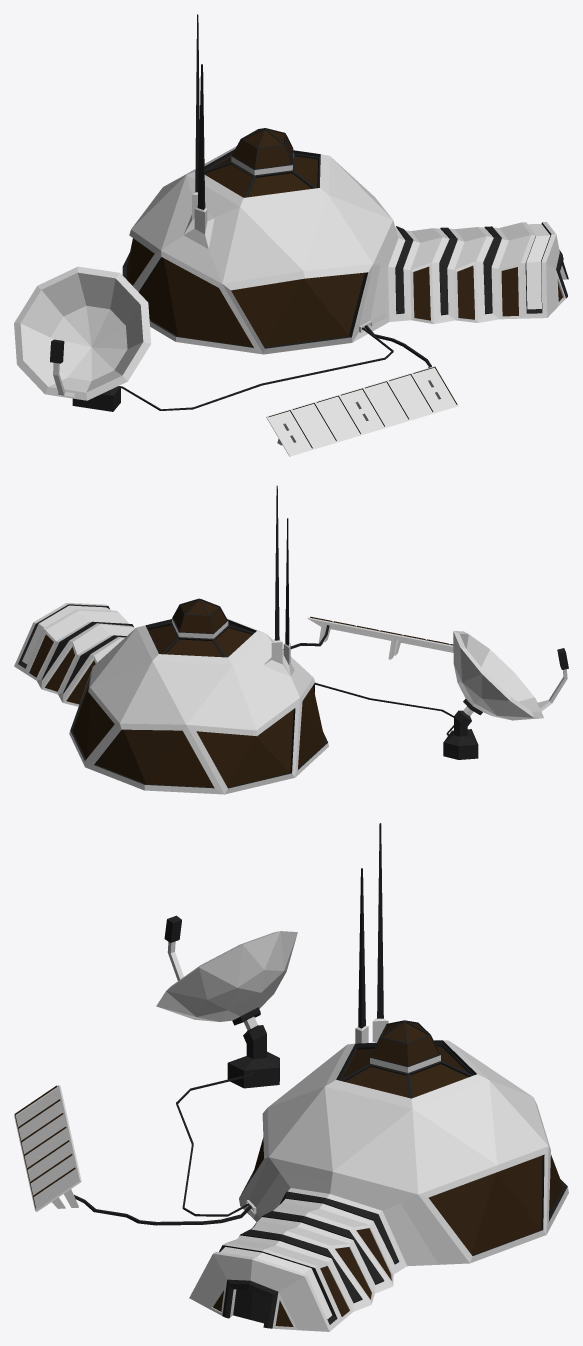
File: env_plane_11.fbx
The picture shows the model from 3 angles, top to bottom: view 1: azimuth 30°, elevation 25°; view 2: azimuth 150°, elevation 25°; view 3: azimuth 270°, elevation 25°; orthographic projection. The views are drawn at different scales.
Visible parts, largest first — view 1: Icosphere; view 2: Icosphere; view 3: Icosphere.
Boxes of the visible parts, box(x1,y1,x2,y2) form: Icosphere: box(14, 14, 568, 456); Icosphere: box(14, 485, 568, 794); Icosphere: box(14, 823, 568, 1331).
Bounding box in the file's own units: 8630 × 4492 × 6655.
